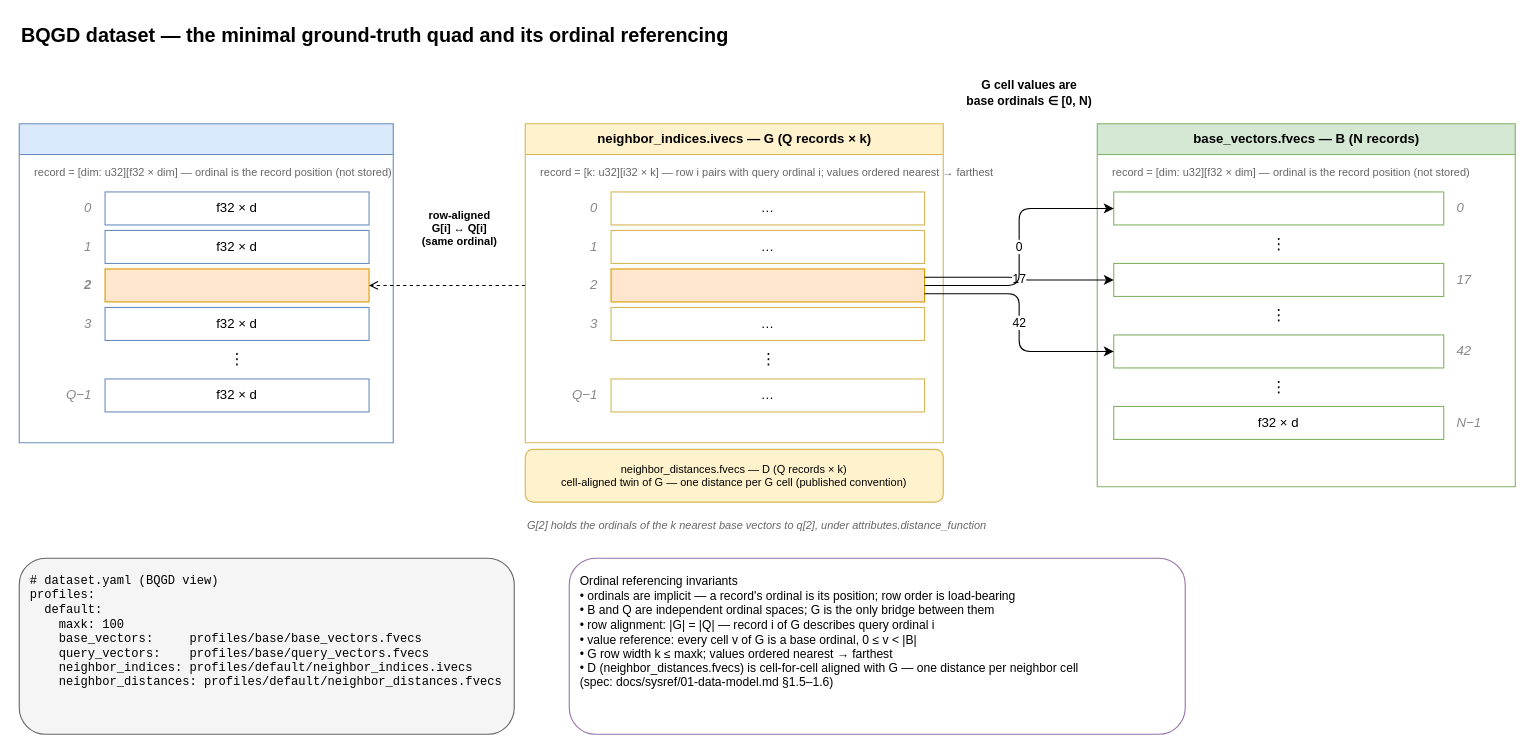
Image size: 1535x754. Some labels were removed from this diagram. The shapes that lost their labels are listed below. From the top down, each one's box as (x1, y1, x2, y2) in pixels, then its label:
(1113, 191, 1444, 225): b[0] — f32 × d
(18, 123, 393, 443): query_vectors.fvecs — Q (Q records)
(104, 268, 369, 302): q[2] — f32 × d
(610, 268, 925, 302): 17 │ 0 │ 42 │ … (×k)
(1113, 262, 1444, 296): b[17] — f32 × d
(1113, 334, 1444, 368): b[42] — f32 × d
